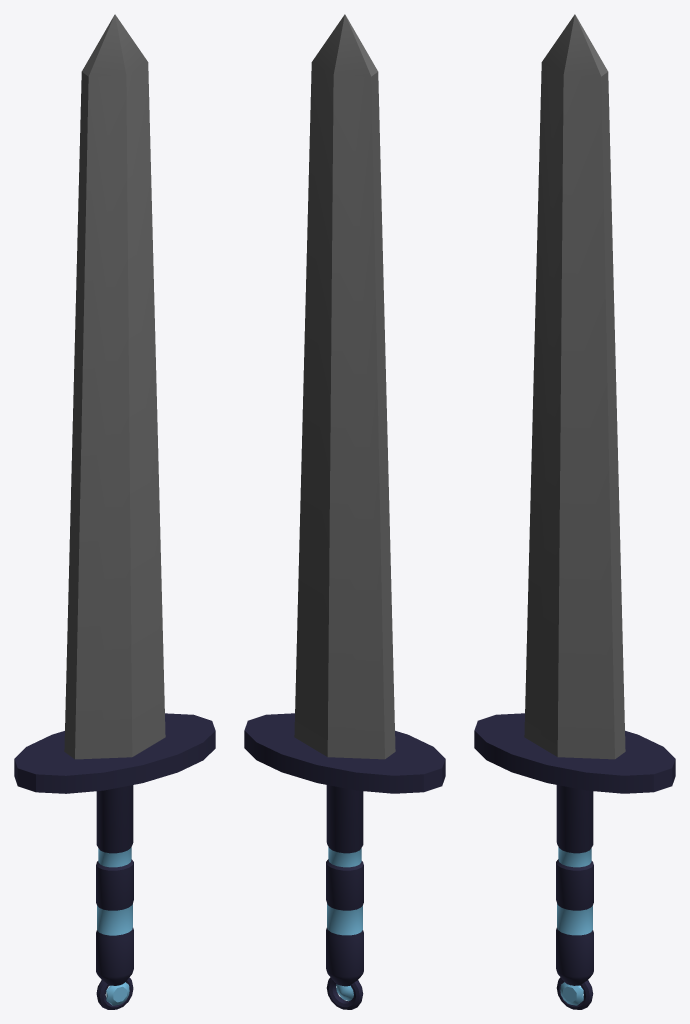
File: sword2.fbx
The picture shows the model from 3 angles, left to right: view 1: azimuth 30°, elevation 25°; view 2: azimuth 150°, elevation 25°; view 3: azimuth 330°, elevation 25°; orthographic projection.
Visible parts, largest first — view 1: Gem; view 2: Gem; view 3: Gem.
Part boxes in pixels (<box>): Gem: <box>14,14,215,1009</box>; Gem: <box>244,14,445,1009</box>; Gem: <box>474,14,675,1009</box>.
Bounding box in the file's own units: 258 × 1262 × 129.
